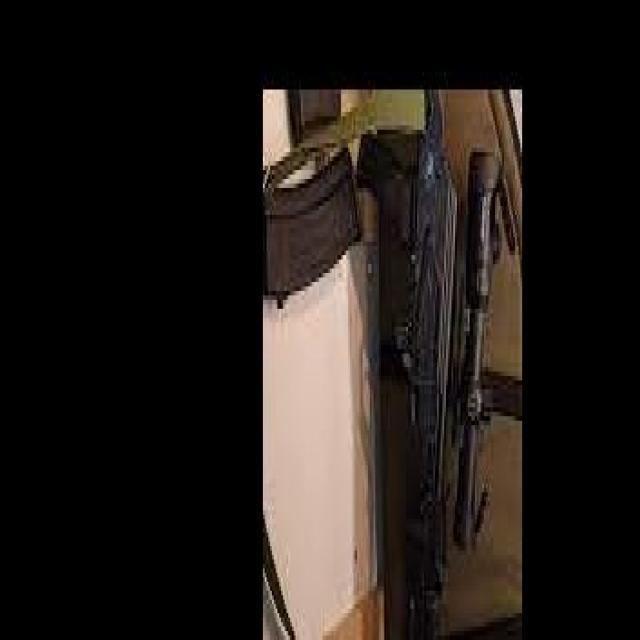weapon: (354, 89, 505, 640)
